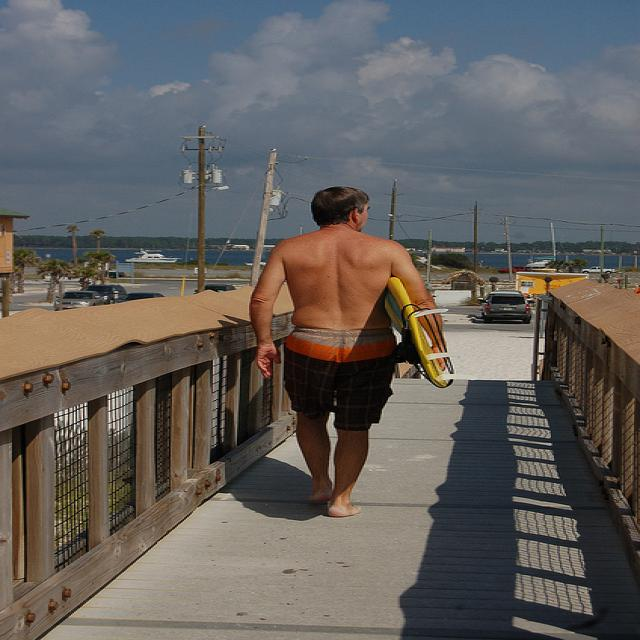Vehicle: (482, 289, 532, 324), (53, 288, 100, 308), (110, 284, 128, 300), (203, 284, 236, 292)
